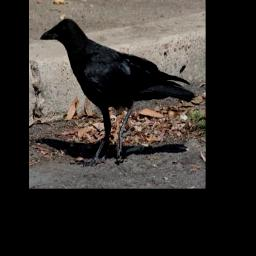Crow: (39, 15, 195, 164)
